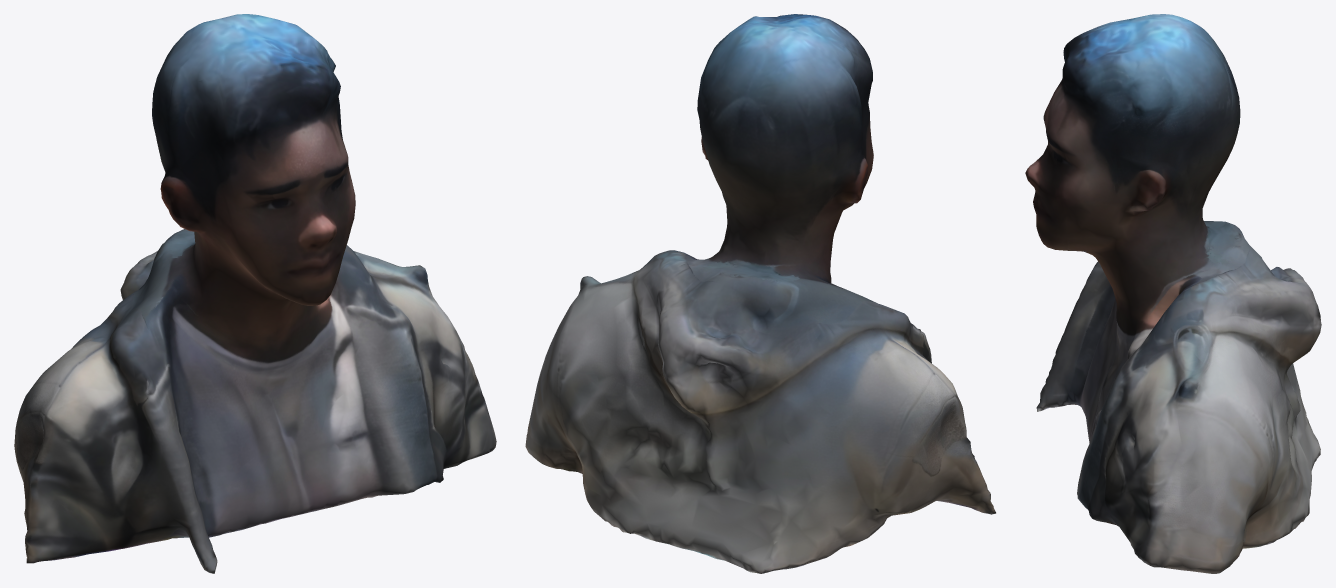
File: profile.glb
The picture shows the model from 3 angles, left to right: view 1: azimuth 30°, elevation 25°; view 2: azimuth 150°, elevation 25°; view 3: azimuth 270°, elevation 25°; orthographic projection. The views are drawn at different scales.
Bounding box in the file's own units: 1.16 × 1.2 × 0.6957.
1 material, 1 textured.
